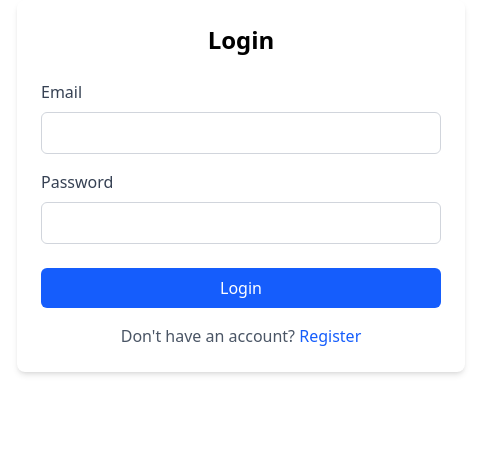
Test case: LoginForm › shows validation error when submitting empty form
The image size is (483, 457).
# Submit the form without entering any data
Click the button "Login": (241, 288) [41,268,441,308]
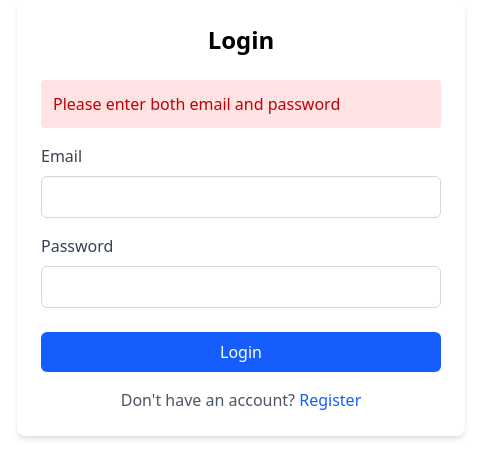
Check: the message "Please enter both email and password" is shown, box [41,80,441,128]
Check: the message with test id "login-error-message" reads "Please enter both email and password", box [53,93,340,115]
